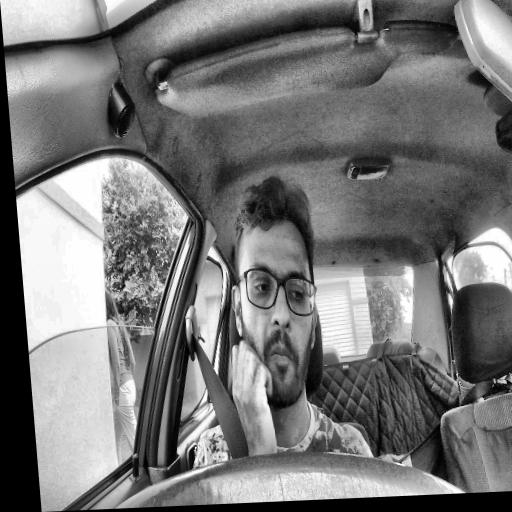awake: (221, 175, 326, 411)
